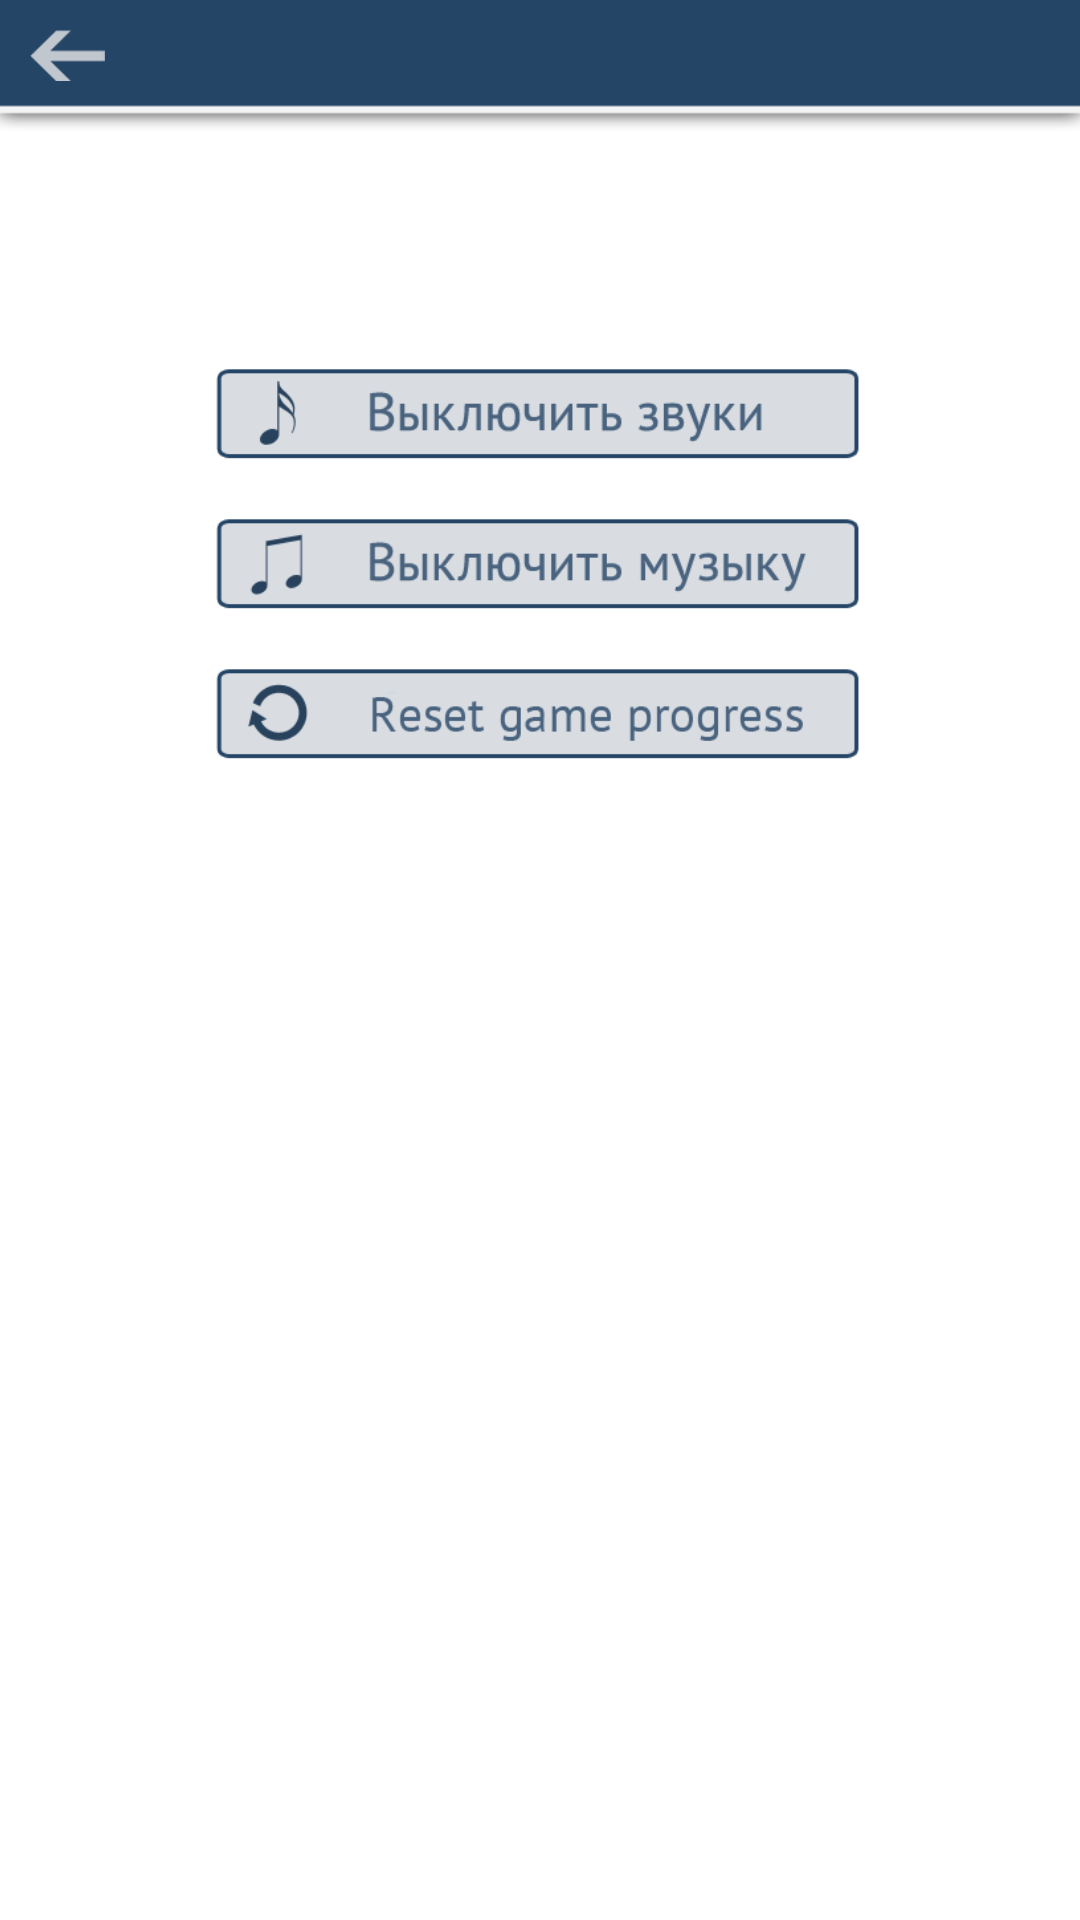

Locate icon controls on the screen. Image size 1080w x 1920h, boxes as (x1, y1, x2, y2).
arrow: (30, 30, 105, 81)
